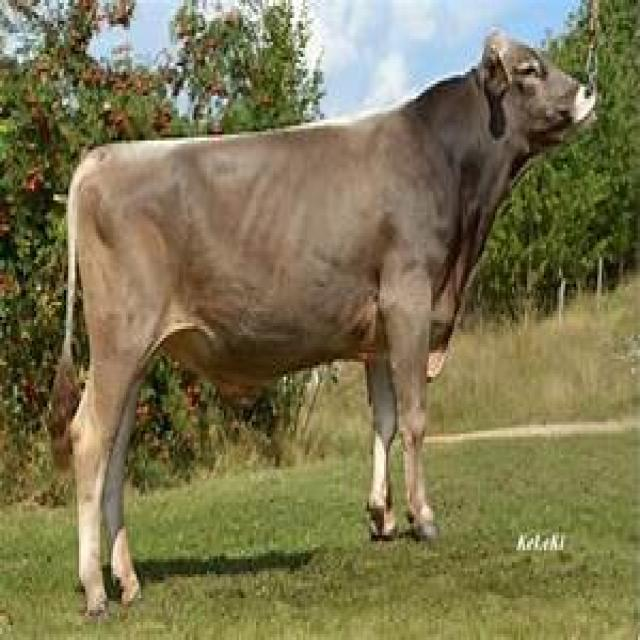animal: (43, 19, 602, 623)
